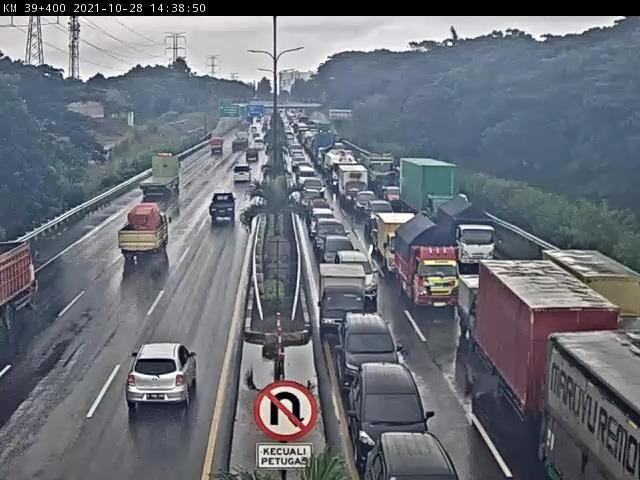bus: (253, 139, 267, 153)
car: (350, 366, 437, 465), (126, 342, 201, 414), (336, 315, 400, 399), (365, 434, 462, 480), (337, 253, 382, 303), (321, 237, 362, 278), (313, 220, 351, 259), (368, 200, 396, 232), (311, 208, 336, 238), (357, 193, 378, 218), (232, 167, 255, 188), (245, 147, 261, 165)
truck: (480, 260, 627, 447), (539, 249, 640, 359), (395, 217, 464, 314), (460, 275, 523, 352), (440, 198, 498, 273), (398, 159, 458, 228), (318, 262, 370, 338), (118, 206, 174, 261), (378, 213, 421, 278), (139, 154, 184, 201), (340, 166, 370, 208), (210, 193, 238, 227), (230, 130, 250, 156), (209, 137, 227, 157)
